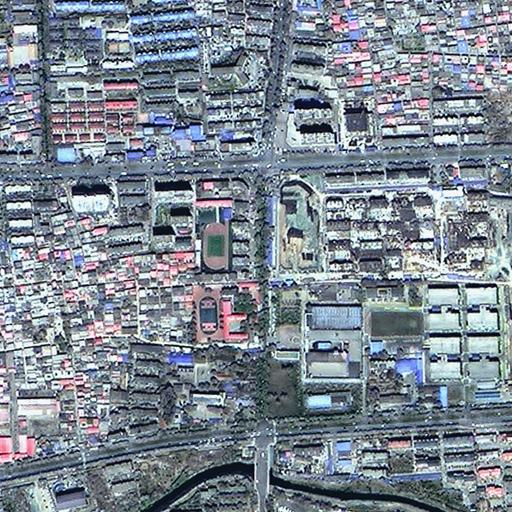school: (193, 280, 261, 345), (195, 174, 234, 273)
